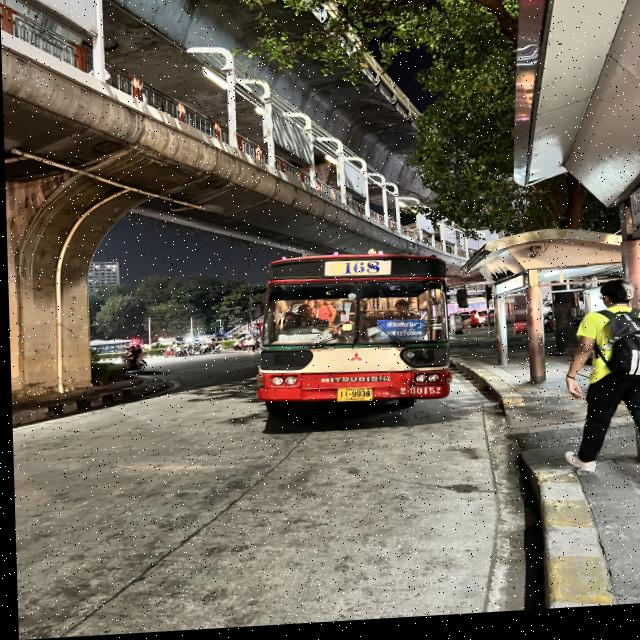BMTA-bus: (254, 257, 450, 421)
Bus Line Number: (337, 263, 382, 281)
Bus Side Number: (394, 388, 441, 405)
Destination Sign: (373, 323, 423, 347)
